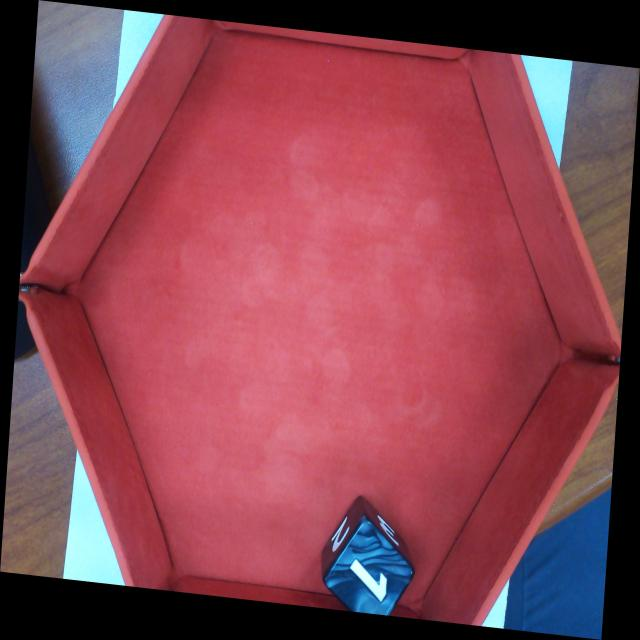dice: (320, 514, 417, 639)
